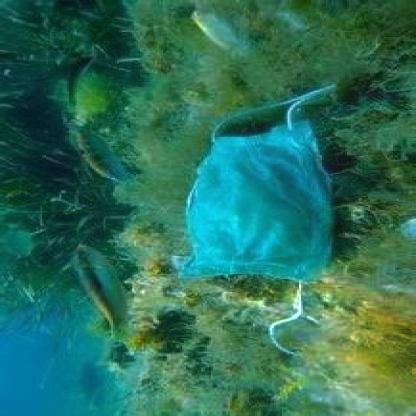Mask: (184, 74, 339, 365)
